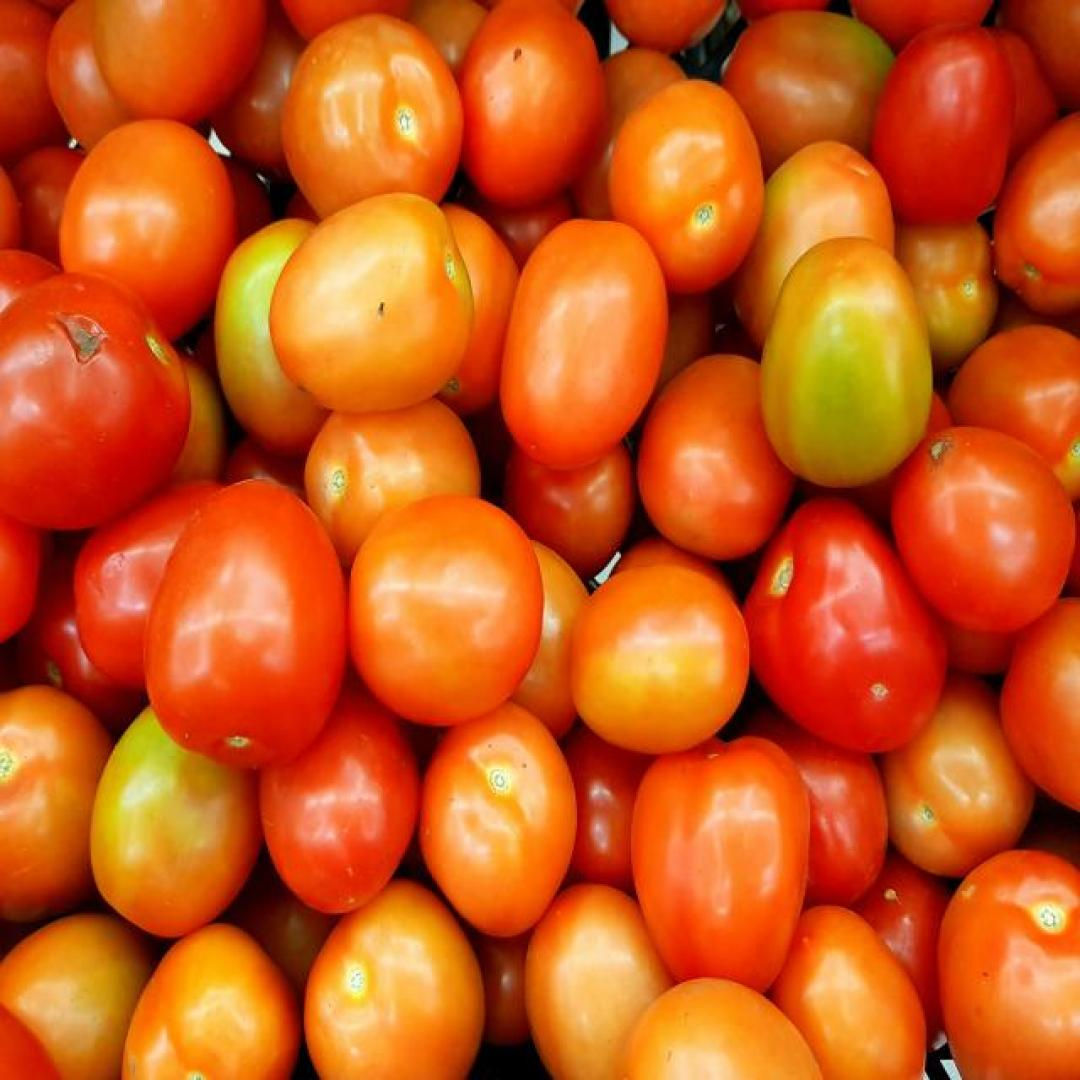matang: (145, 479, 349, 770), (739, 494, 950, 751), (631, 731, 810, 1004), (346, 492, 545, 730), (499, 219, 665, 472), (891, 425, 1075, 633), (870, 26, 1012, 224)
setengah_matang: (268, 187, 474, 412), (756, 236, 933, 493), (567, 565, 751, 756), (609, 79, 764, 292)
